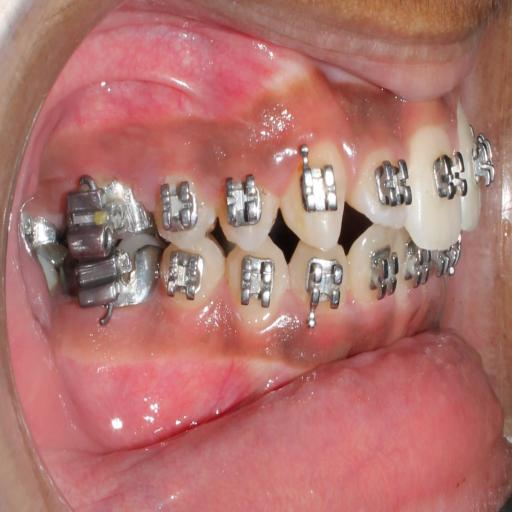correct_brace: (215, 172, 280, 257), (296, 160, 344, 222), (430, 148, 468, 202), (377, 162, 409, 207)
incorrect_brace: (351, 144, 408, 232), (221, 177, 264, 228)
